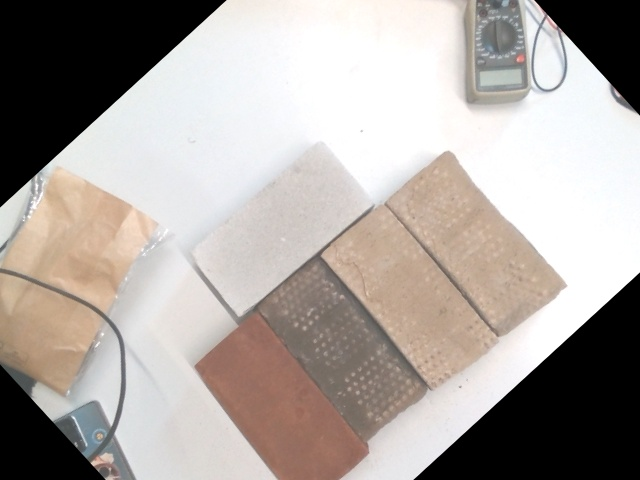brick: (385, 146, 565, 338), (319, 202, 494, 392), (186, 140, 374, 316), (260, 259, 424, 439), (191, 317, 366, 479)
